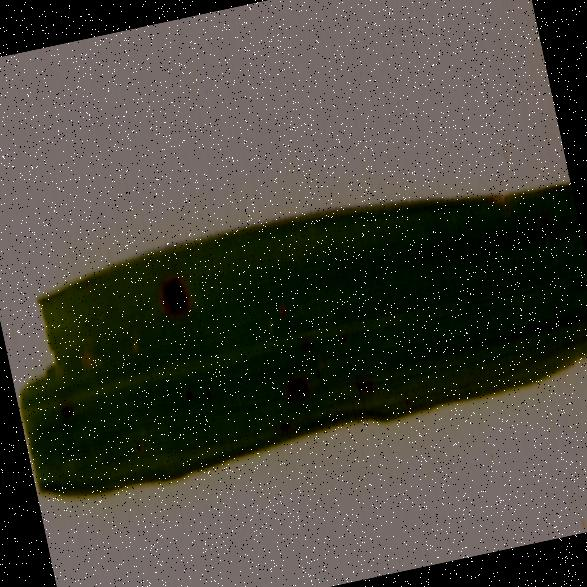Brown_Spot: (143, 246, 206, 336), (268, 346, 322, 420), (46, 374, 86, 452), (347, 358, 381, 408), (528, 195, 558, 246)
